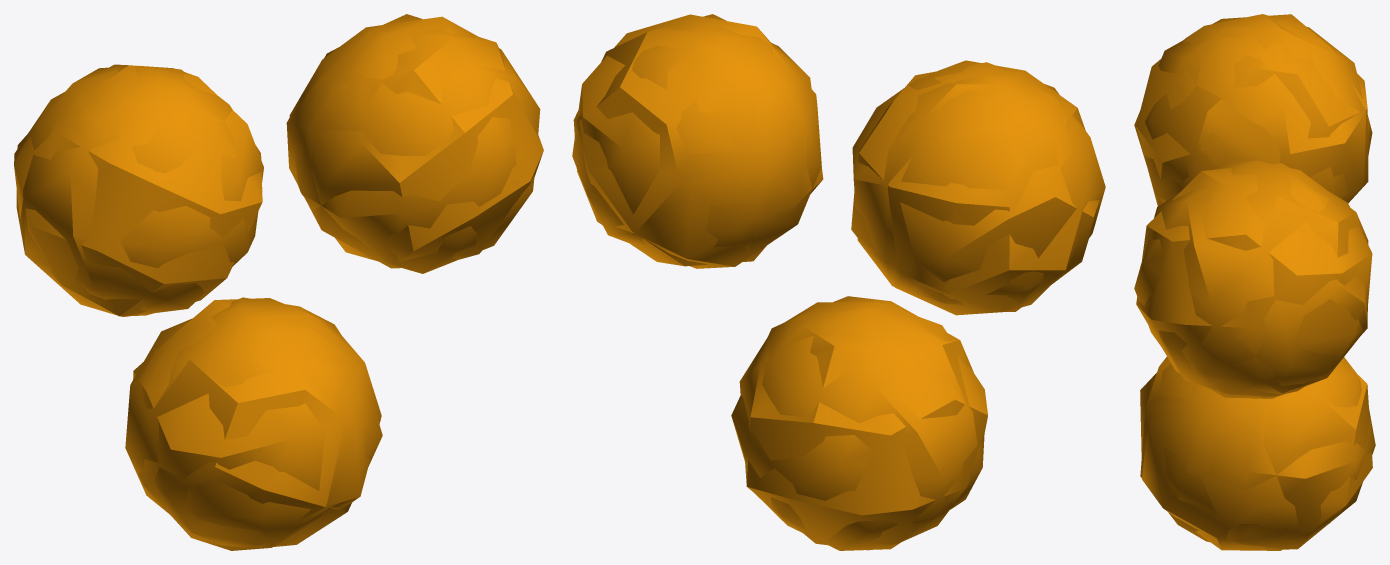
The model's file is single_snacks_bitterbal.fbx.
3 renders of one model, left to right at view 1: azimuth 30°, elevation 25°; view 2: azimuth 150°, elevation 25°; view 3: azimuth 270°, elevation 25°, orthographic. The views are drawn at different scales.
Visible parts, largest first — view 1: SingelBitterbal_model; view 2: SingelBitterbal_model; view 3: SingelBitterbal_model.
Boxes of the visible parts, x1=… form: SingelBitterbal_model: x1=14, y1=14, x2=543, y2=550; SingelBitterbal_model: x1=572, y1=14, x2=1105, y2=550; SingelBitterbal_model: x1=1134, y1=14, x2=1375, y2=550.
Bounding box in the file's own units: 17.52 × 16.41 × 7.74.
